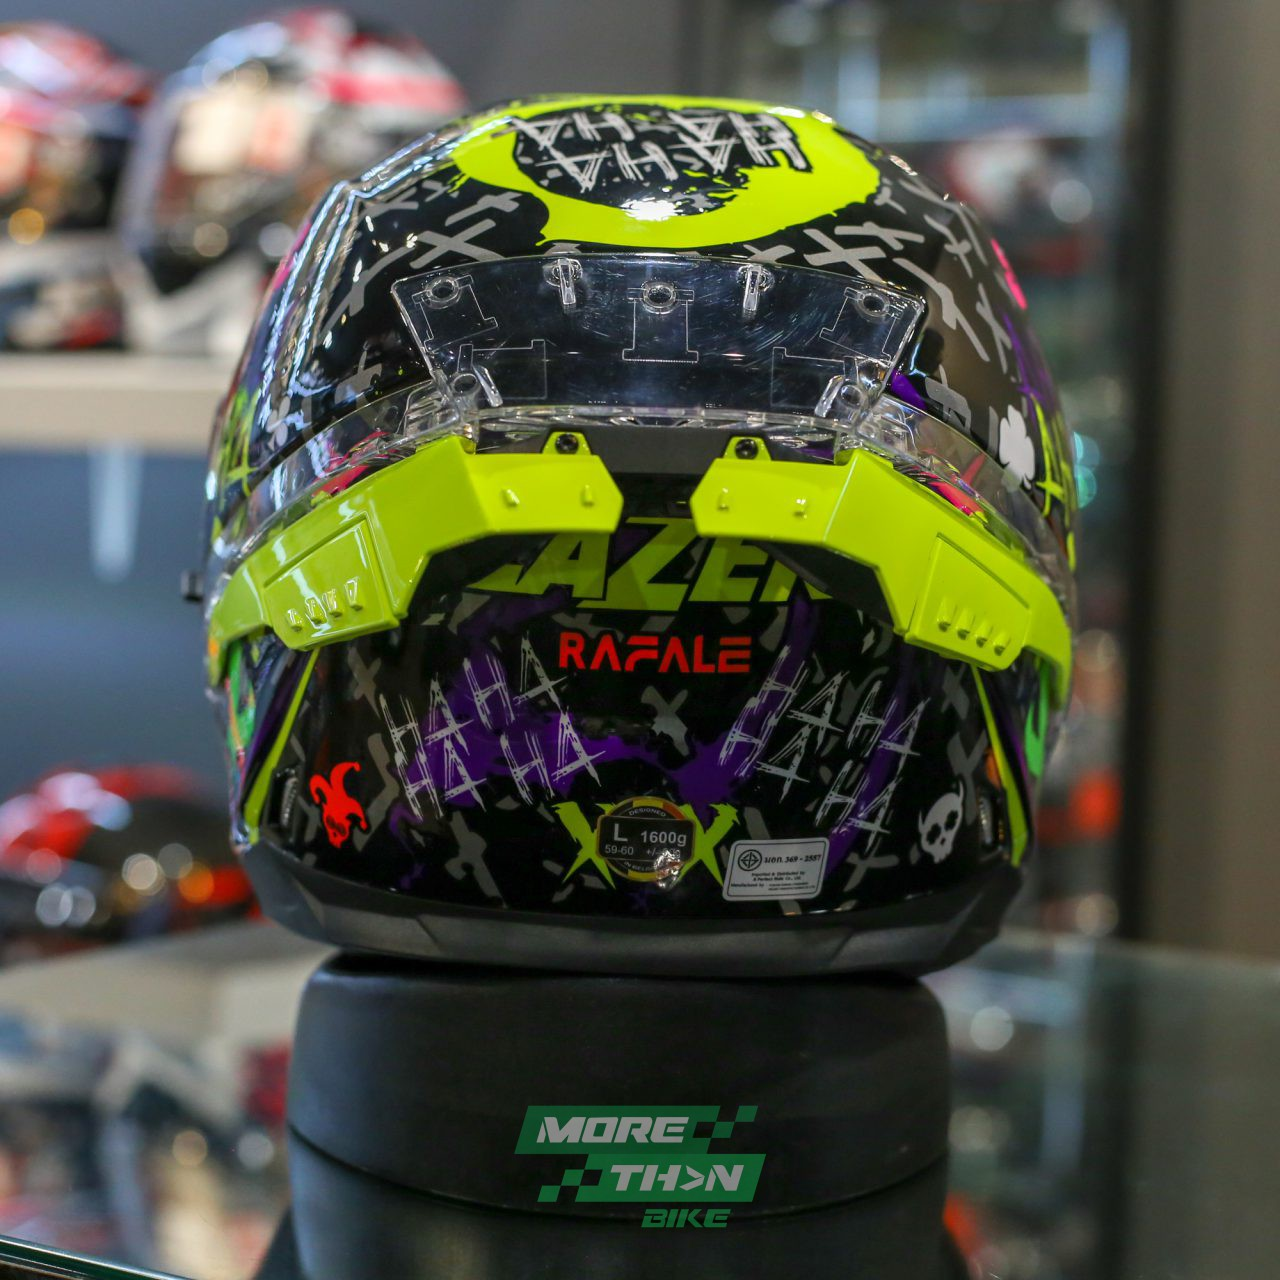helmet: (206, 96, 1080, 975)
